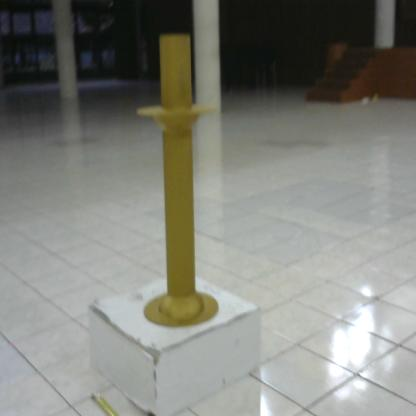pole: (130, 22, 227, 337)
